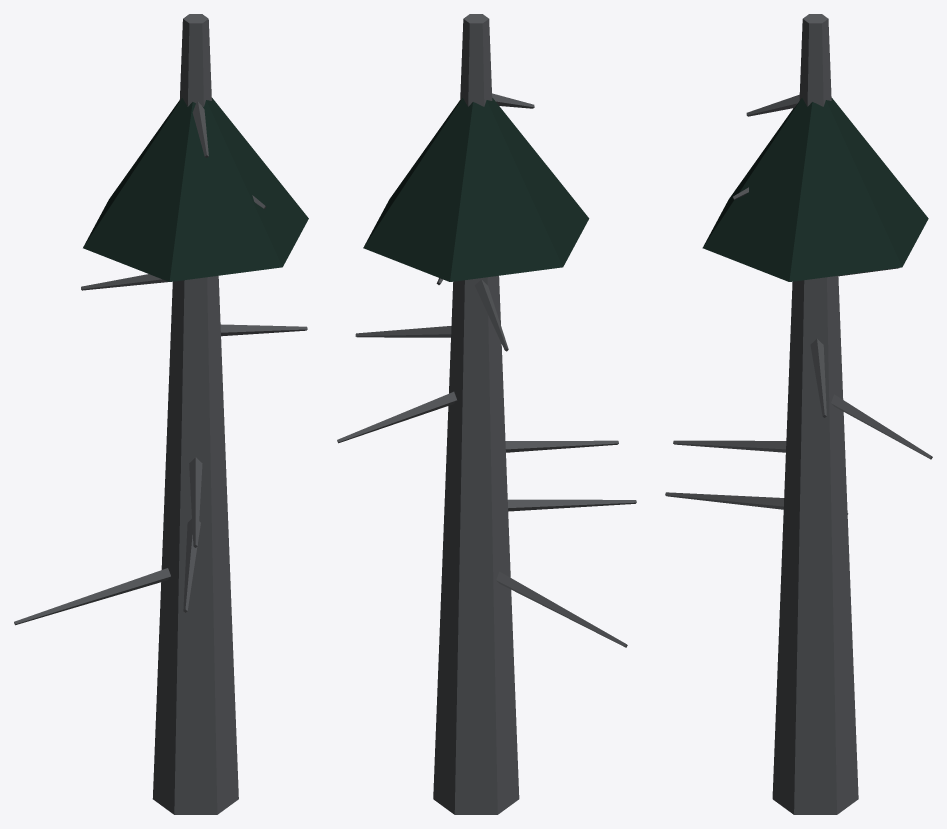
The model's file is pine_snag.glb.
The picture shows the model from 3 angles, left to right: view 1: azimuth 30°, elevation 25°; view 2: azimuth 150°, elevation 25°; view 3: azimuth 270°, elevation 25°; orthographic projection.
Visible parts, largest first — view 1: silverfog_d55, pine_d55, silverfog_d60; view 2: silverfog_d55, pine_d55, silverfog_d60; view 3: silverfog_d55, pine_d55, silverfog_d60.
Boxes of the visible parts, x1,y1,x2,y2 form: silverfog_d55: [152, 14, 238, 814]; pine_d55: [83, 98, 308, 281]; silverfog_d60: [14, 102, 307, 625]; silverfog_d55: [433, 14, 519, 814]; pine_d55: [363, 98, 589, 281]; silverfog_d60: [337, 93, 636, 647]; silverfog_d55: [772, 14, 858, 814]; pine_d55: [702, 98, 928, 281]; silverfog_d60: [665, 94, 932, 514].
Bounding box in the file's own units: 1.51 × 4 × 1.24.
